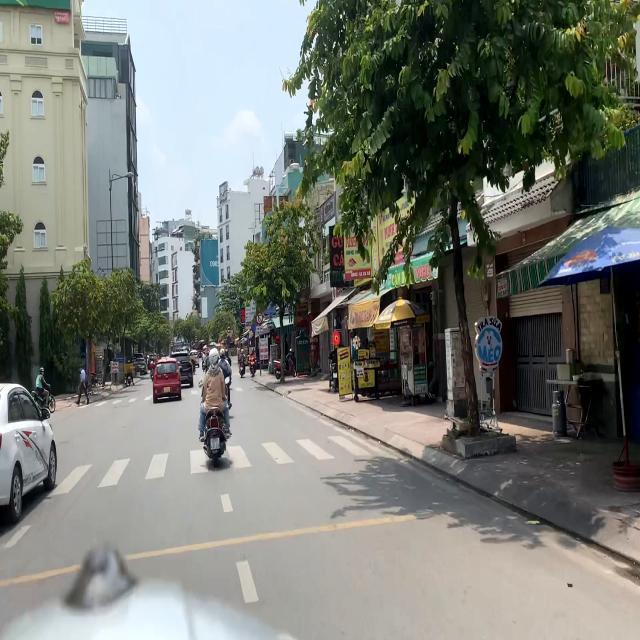P.103b: (256, 311, 263, 325)
P.106a: (227, 325, 230, 333)
